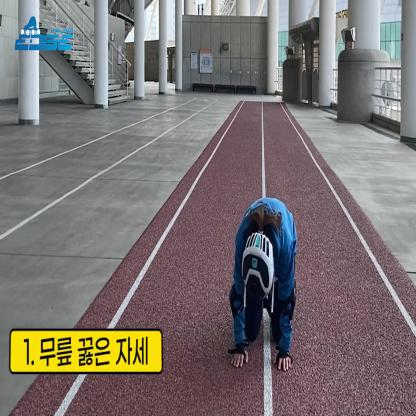Fall_Down: (228, 196, 297, 372)
